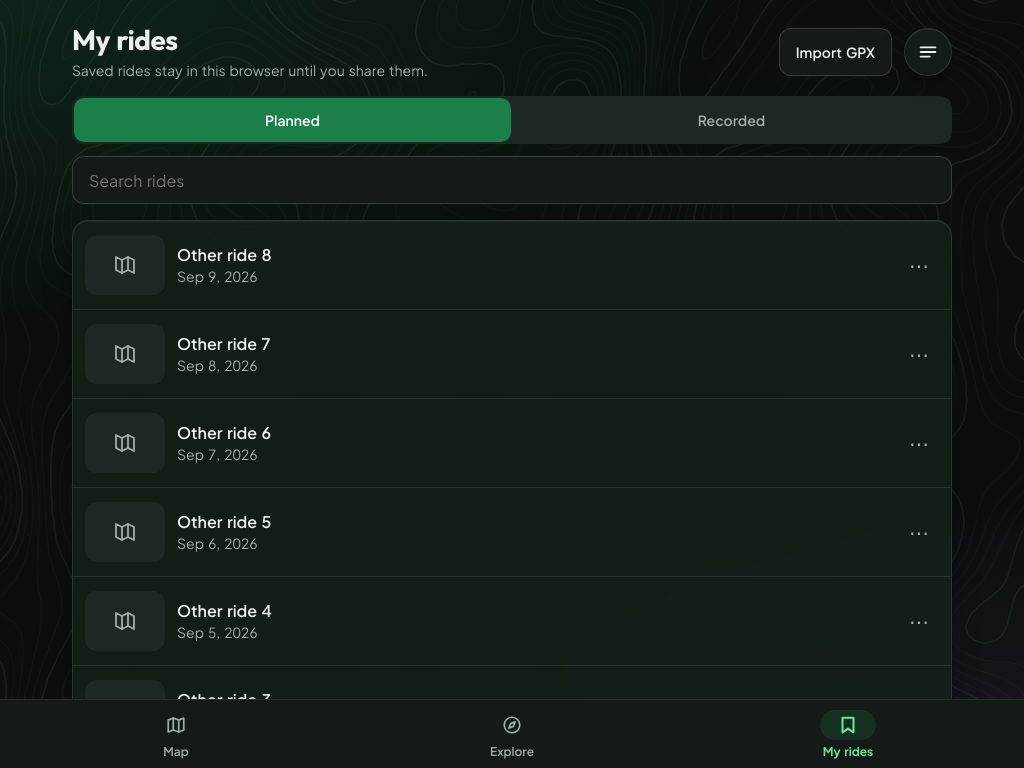
Test case: RidesLibrary › searches a long library and clears the search without writing
In the search field labelled "Search rides": point(512, 180) [72,156,952,204], type "nowhere"
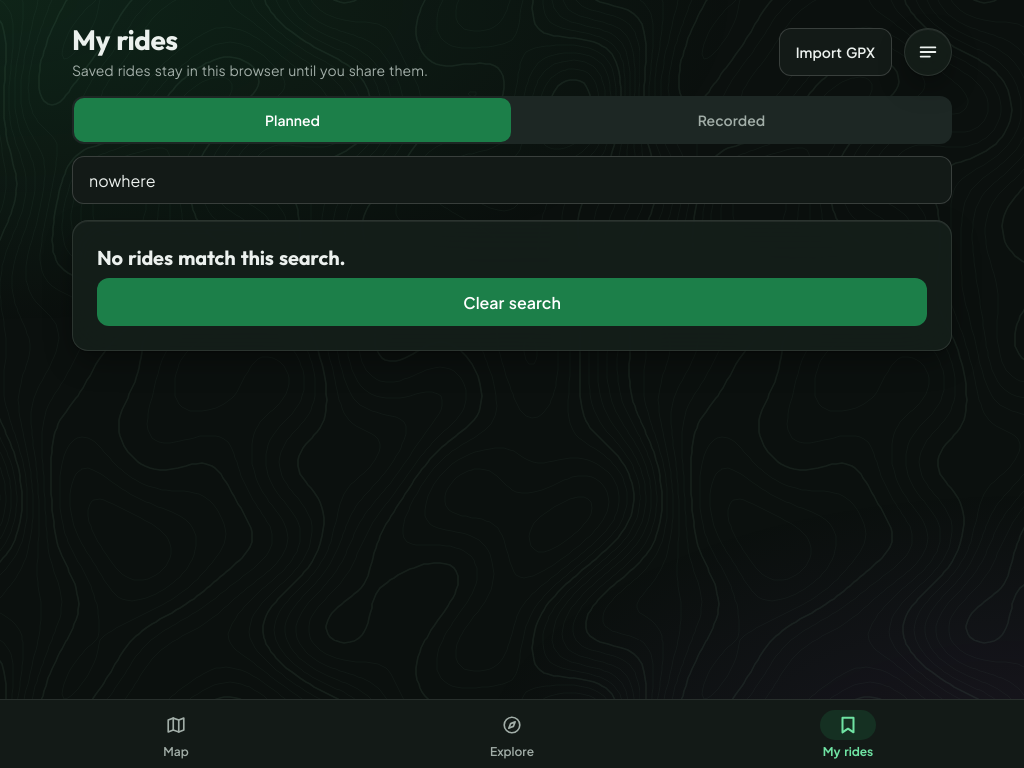
expect the heading "No rides match this search." is shown: met, box [97,246,345,270]
Click the button "Clear search": point(512, 302) [97,278,927,326]
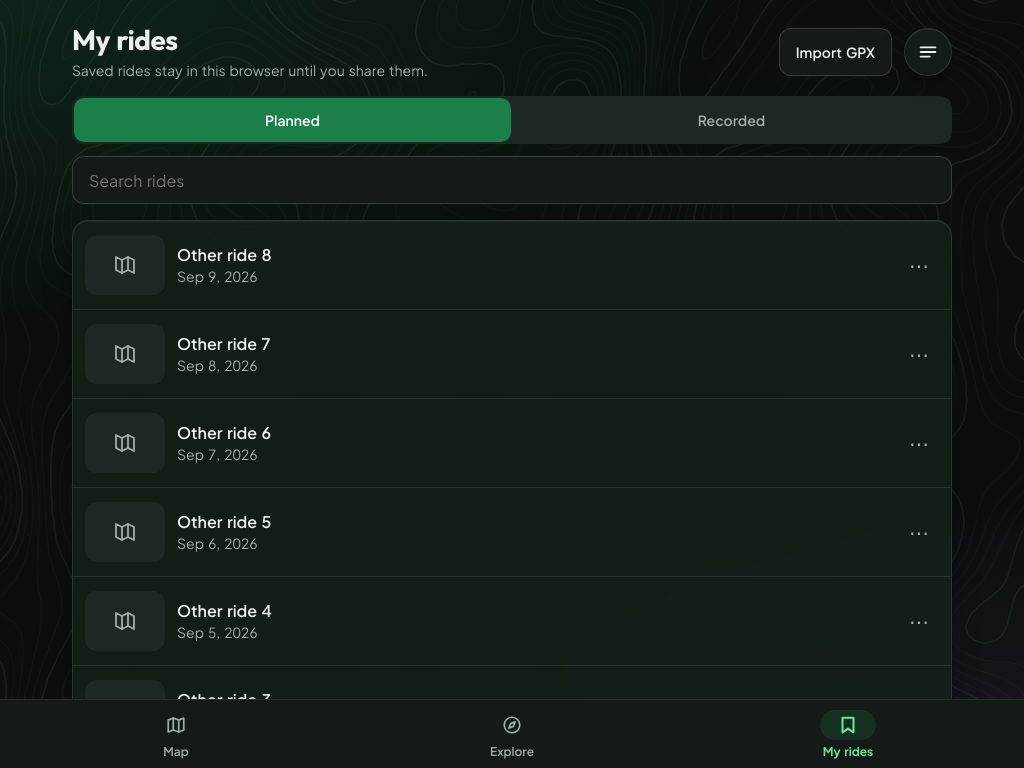
expect the search field labelled "Search rides" is empty: met, box [72,156,952,204]
